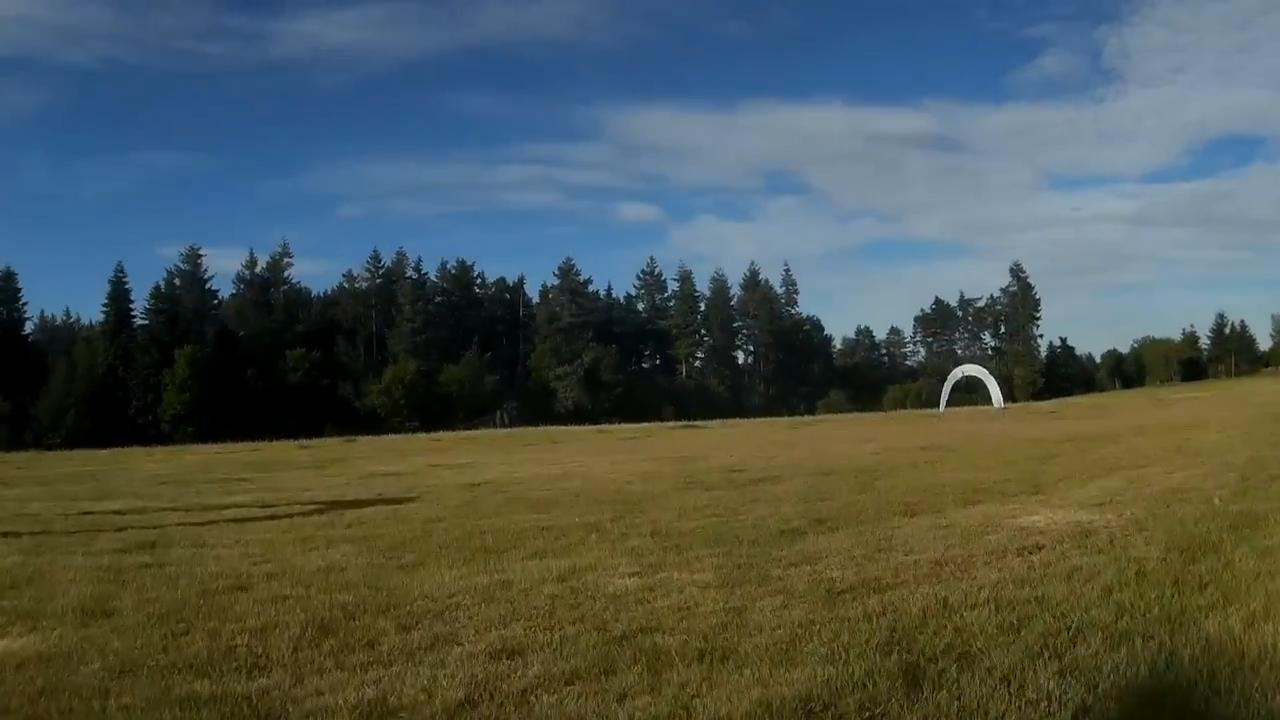gate: (936, 364, 1000, 413)
